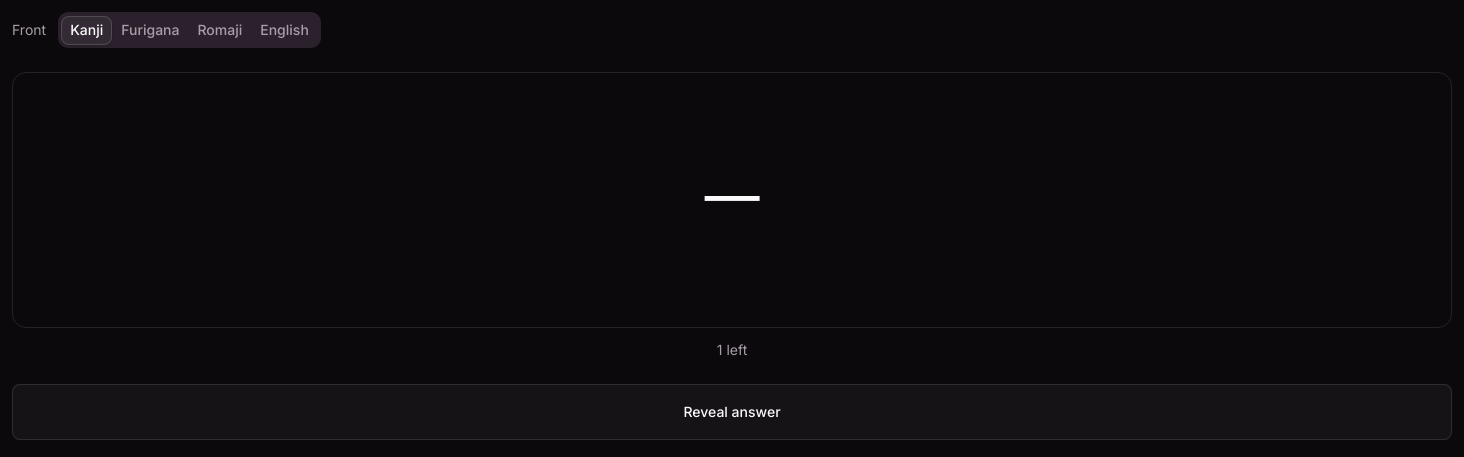
Test: Flashcards › grading › ends the session once the last card is answered
The image size is (1464, 457).
Click the button "Reveal answer": (732, 412) [12, 384, 1452, 440]
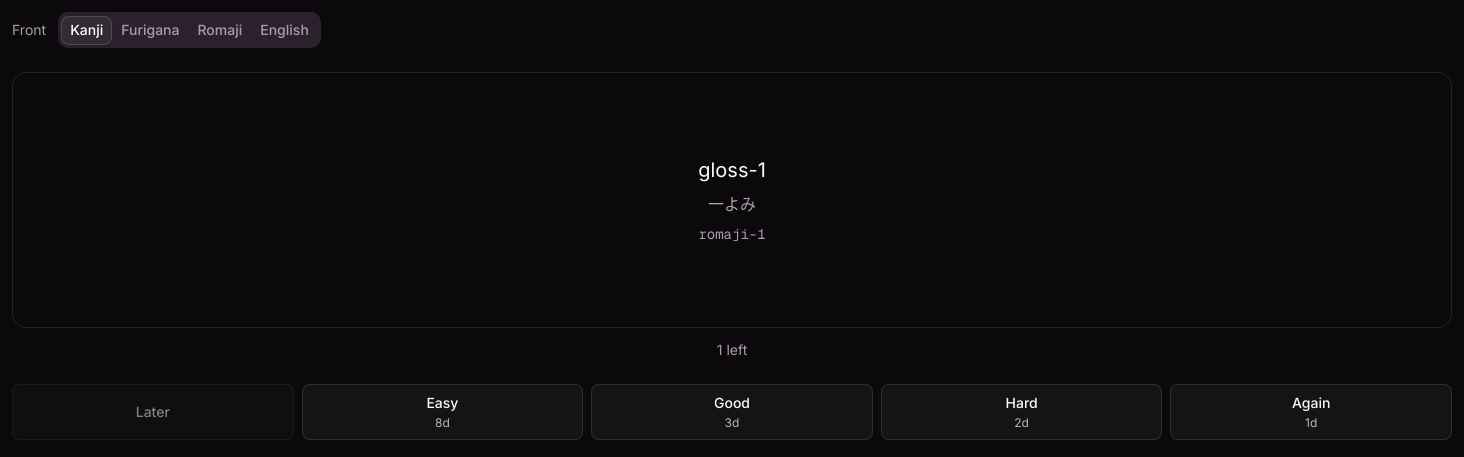
Click the button "Good 3d": (732, 412) [591, 384, 873, 440]
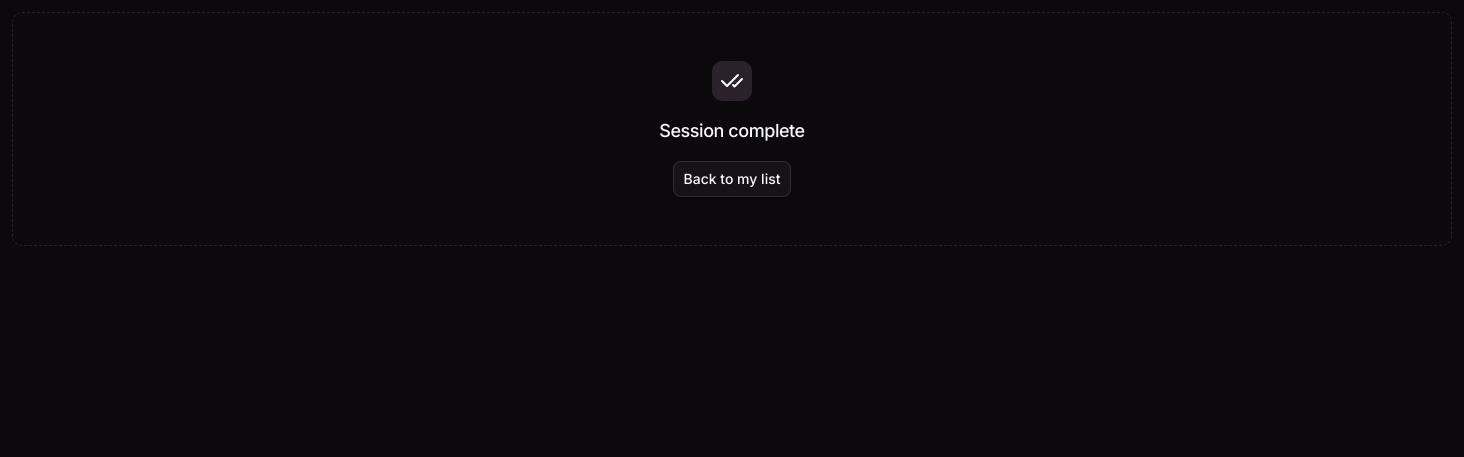
Check: the text "Session complete" is shown, box [659, 117, 805, 145]
